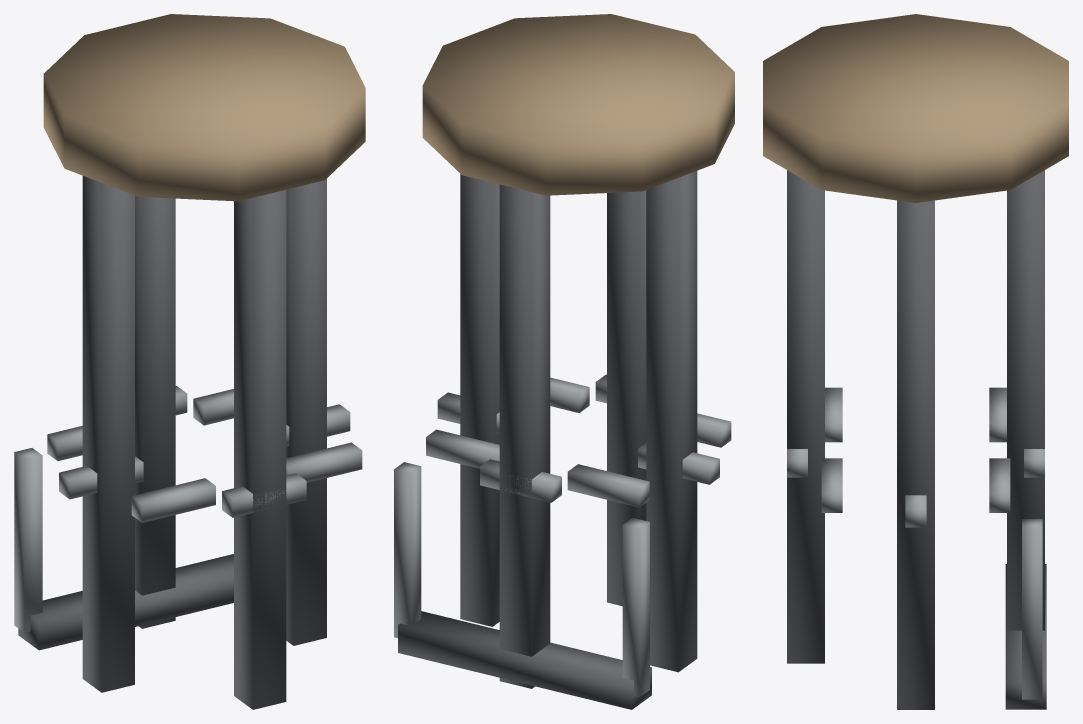
The model's file is medical_rolling_stool__reinforced.glb.
3 renders of one model, left to right at view 1: azimuth 30°, elevation 25°; view 2: azimuth 150°, elevation 25°; view 3: azimuth 270°, elevation 25°, orthographic. The views are drawn at different scales.
Parts seen in each view (by area): view 1: world; view 2: world; view 3: world.
Boxes of the visible parts, left/top/right/bottom form: world: left=14, top=14, right=365, bottom=709; world: left=394, top=14, right=734, bottom=709; world: left=763, top=14, right=1068, bottom=709.
Bounding box in the file's own units: 0.3914 × 0.7701 × 0.3722.
